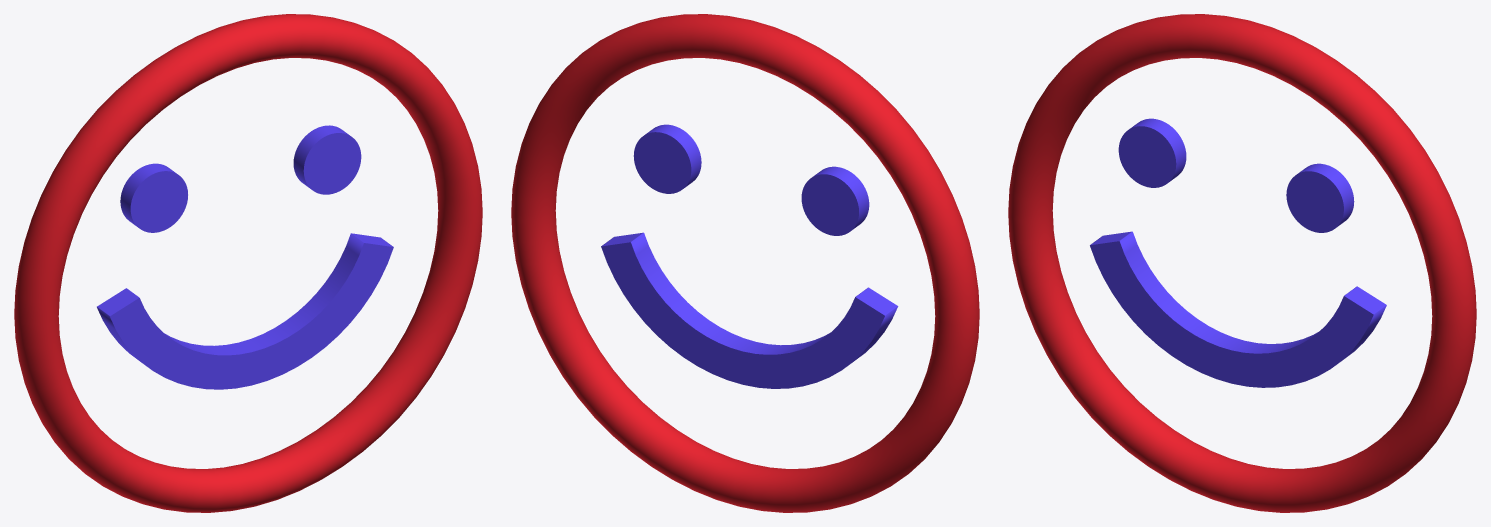
File: smile5.glb
3 views of the same model, side by side, from view 1: azimuth 30°, elevation 25°; view 2: azimuth 150°, elevation 25°; view 3: azimuth 330°, elevation 25° (orthographic).
Parts seen in each view (by area): view 1: torus, Curve.003, Curve.002, Curve.001; view 2: torus, Curve.003, Curve.001, Curve.002; view 3: torus, Curve.003, Curve.001, Curve.002.
Boxes of the visible parts, x1,y1,x2,y2 form: torus: [14, 14, 482, 512]; Curve.003: [97, 233, 393, 389]; Curve.002: [293, 125, 361, 194]; Curve.001: [120, 163, 187, 232]; torus: [511, 14, 979, 512]; Curve.003: [601, 232, 898, 388]; Curve.001: [801, 166, 869, 235]; Curve.002: [633, 124, 701, 193]; torus: [1008, 14, 1476, 512]; Curve.003: [1090, 231, 1386, 387]; Curve.001: [1118, 118, 1186, 187]; Curve.002: [1286, 163, 1354, 232].
Size of the model in its own units: 7.2 by 7.2 by 0.6496.
